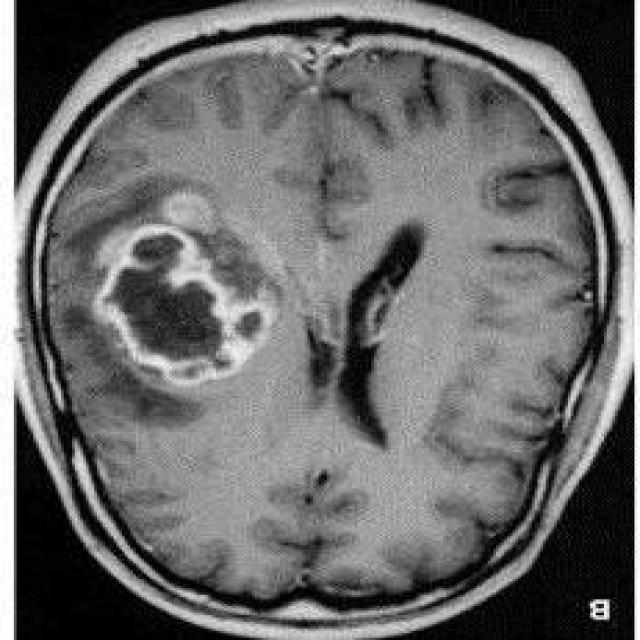Tumor-Cell: (88, 204, 276, 394)
